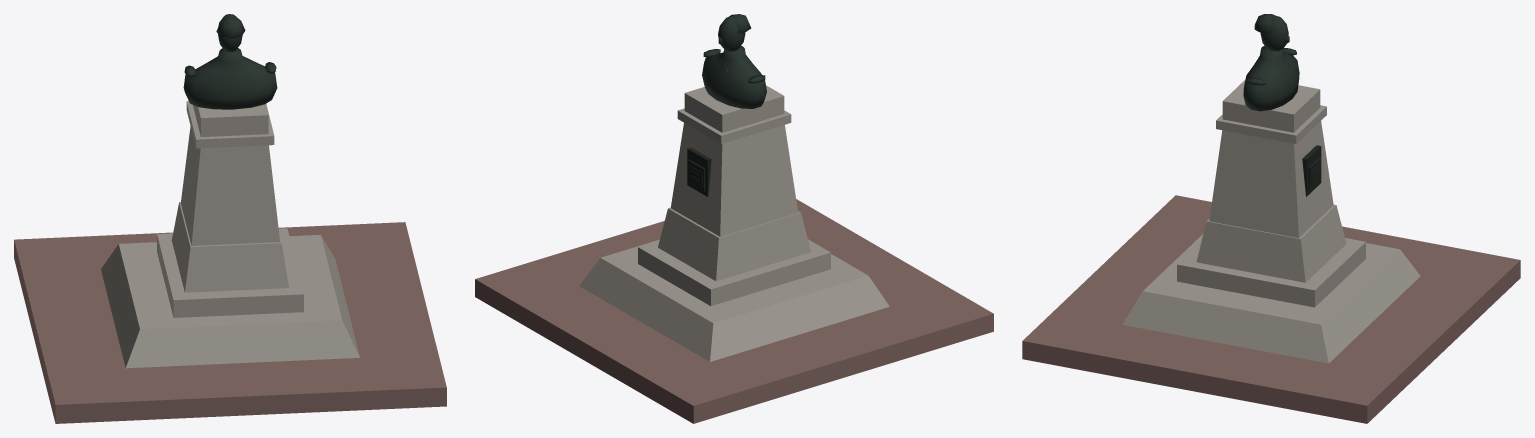
The model's file is ushakov.glb.
3 views of the same model, side by side, from view 1: azimuth 30°, elevation 25°; view 2: azimuth 150°, elevation 25°; view 3: azimuth 270°, elevation 25° (orthographic). The views are drawn at different scales.
Parts seen in each view (by area): view 1: ushakov_stone, ushakov_wall2, ushakov_wall3; view 2: ushakov_wall2, ushakov_stone, ushakov_wall3, ushakov_metal; view 3: ushakov_wall2, ushakov_stone, ushakov_wall3, ushakov_metal.
Part boxes in pixels (left/top/right/bottom): ushakov_stone: left=14, top=222, right=446, bottom=423; ushakov_wall2: left=101, top=101, right=359, bottom=368; ushakov_wall3: left=183, top=14, right=277, bottom=109; ushakov_wall2: left=579, top=85, right=889, bottom=361; ushakov_stone: left=475, top=199, right=993, bottom=423; ushakov_wall3: left=702, top=14, right=766, bottom=108; ushakov_metal: left=687, top=147, right=711, bottom=196; ushakov_wall2: left=1122, top=79, right=1420, bottom=363; ushakov_stone: left=1022, top=195, right=1520, bottom=423; ushakov_wall3: left=1243, top=14, right=1299, bottom=111; ushakov_metal: left=1302, top=145, right=1321, bottom=196.
Bounding box in the file's own units: 7.92 × 5.33 × 7.92.
